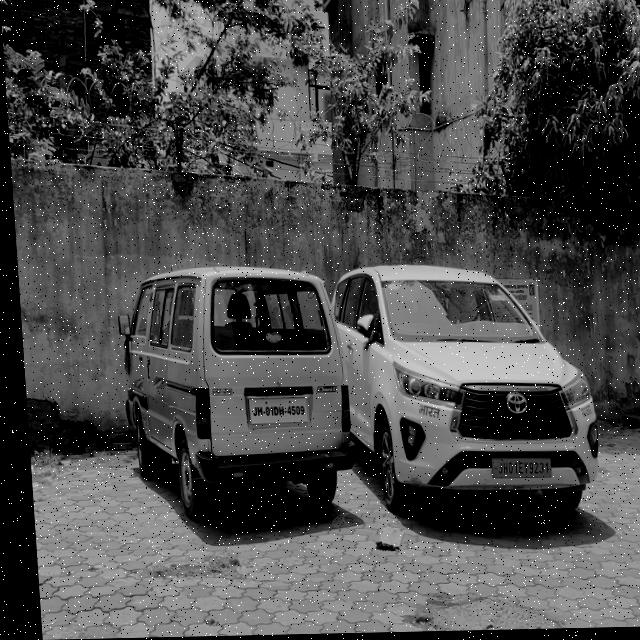car: (328, 258, 601, 527), (113, 251, 357, 536)
